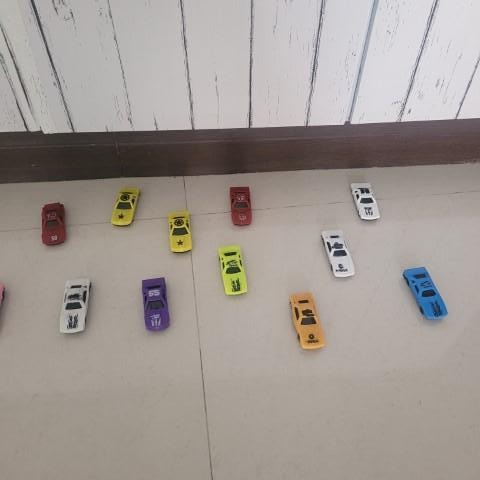car: (397, 263, 446, 321), (287, 287, 327, 354), (58, 273, 92, 337), (320, 226, 358, 277), (217, 241, 251, 297), (142, 275, 172, 334), (349, 179, 383, 223), (229, 182, 258, 230), (41, 202, 69, 247), (168, 210, 193, 255)
